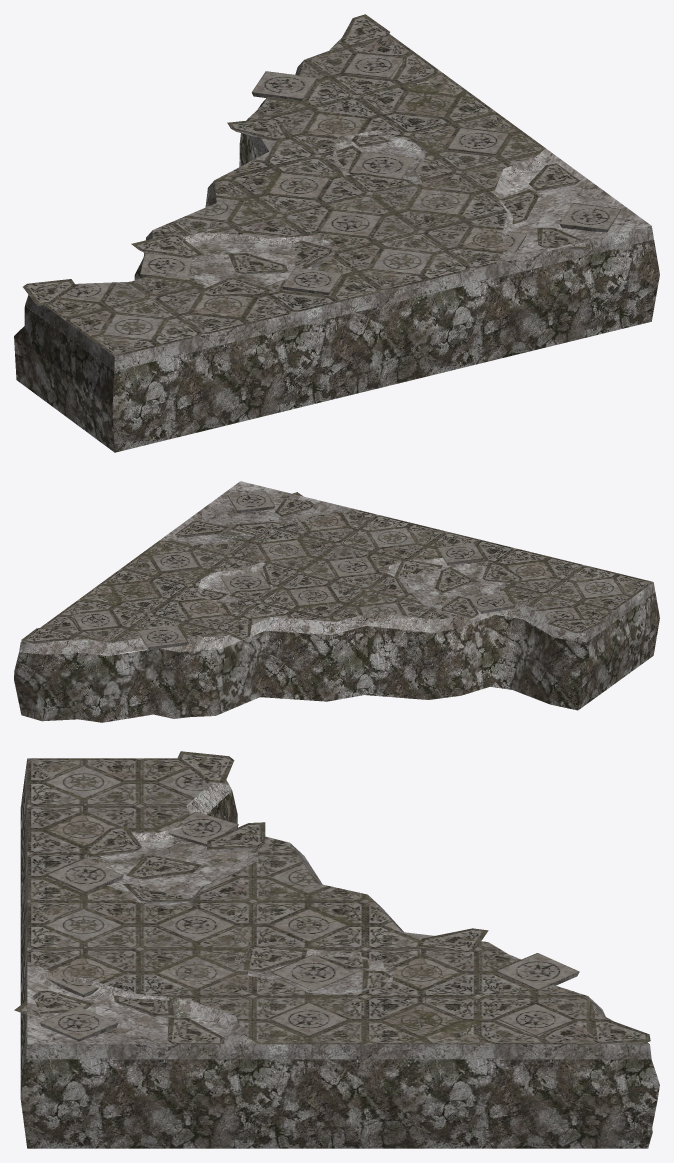
The model's file is eso_ss1_groundruins1-transformed.glb.
3 renders of one model, top to bottom at view 1: azimuth 30°, elevation 25°; view 2: azimuth 150°, elevation 25°; view 3: azimuth 270°, elevation 25°, orthographic. The views are drawn at different scales.
Visible parts, largest first — view 1: default; view 2: default; view 3: default.
Boxes of the visible parts, left/top/right/bottom form: default: left=14, top=14, right=659, bottom=452; default: left=14, top=481, right=659, bottom=722; default: left=14, top=751, right=659, bottom=1148.
Size of the model in its own units: 13.12 by 2.26 by 12.23.
3 materials, 3 textured.
